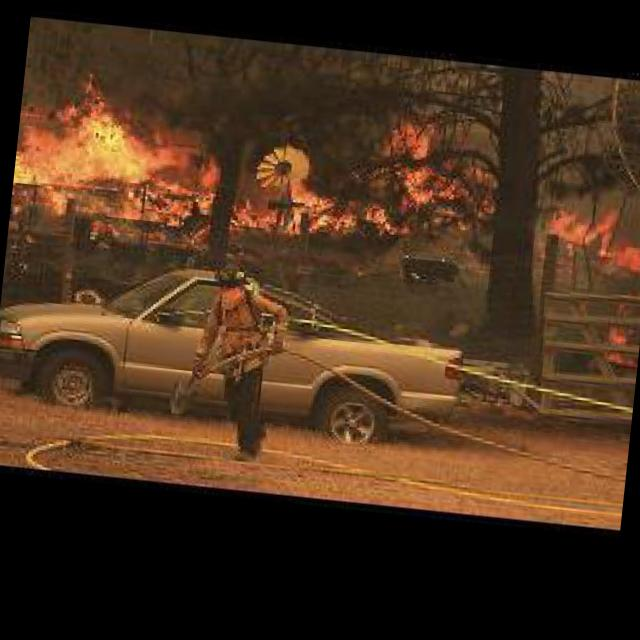fire: (8, 65, 227, 252), (236, 97, 452, 250), (543, 192, 640, 275), (596, 302, 640, 366)
